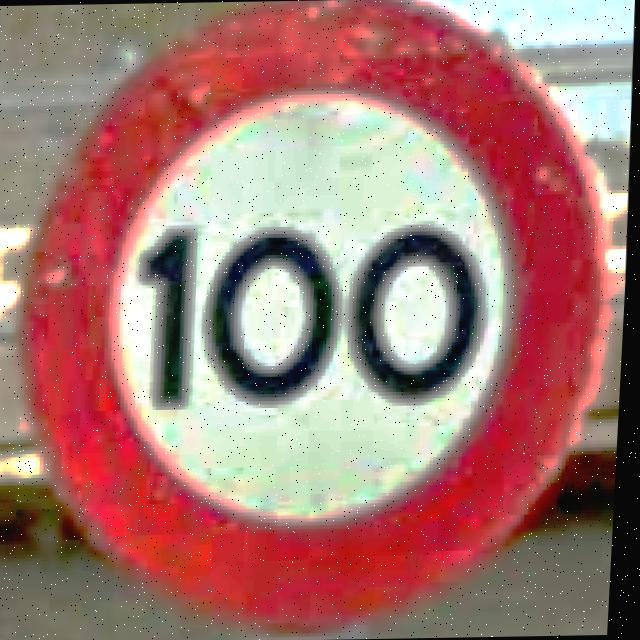max100: (0, 0, 631, 635)
